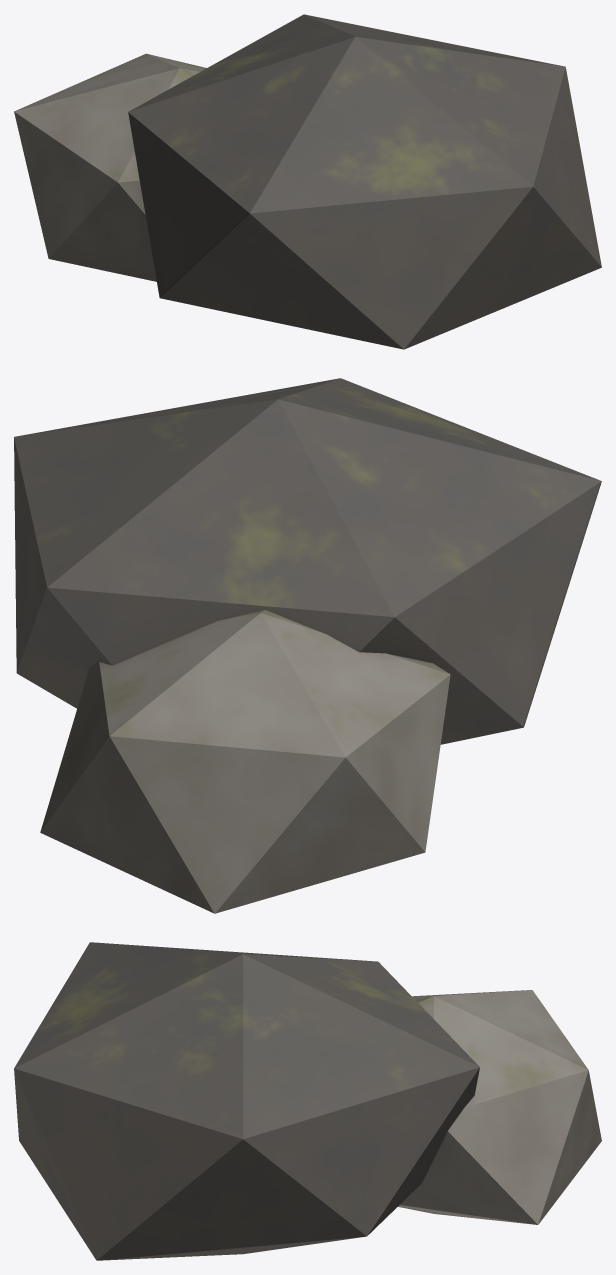
Rendered from pedregulho.glb.
The picture shows the model from 3 angles, top to bottom: view 1: azimuth 30°, elevation 25°; view 2: azimuth 150°, elevation 25°; view 3: azimuth 270°, elevation 25°; orthographic projection. The views are drawn at different scales.
Parts seen in each view (by area): view 1: pedregulho; view 2: pedregulho; view 3: pedregulho.
Part boxes in pixels (box(x1,y1,x2,y2)): pedregulho: box(14, 14, 601, 349); pedregulho: box(14, 378, 601, 913); pedregulho: box(14, 942, 601, 1260).
Bounding box in the file's own units: 0.5482 × 0.3697 × 0.657.
Materials: 1 (1 with a texture image).
